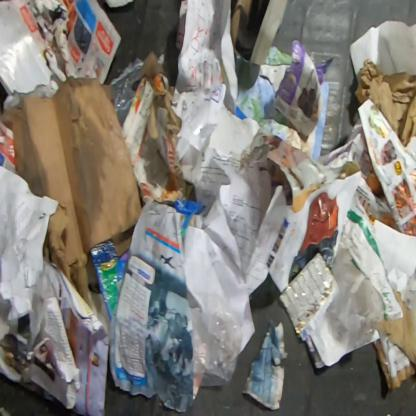cardboard: (0, 40, 143, 310), (122, 49, 186, 206), (0, 0, 58, 97), (354, 58, 416, 148), (369, 286, 415, 391), (231, 0, 289, 65)
soft_plastic: (188, 288, 244, 388), (278, 251, 336, 338), (90, 240, 132, 321), (112, 62, 145, 127)
